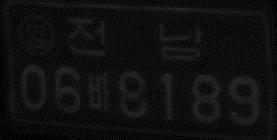0: (20, 63, 49, 112)
1: (153, 72, 184, 121)
6: (52, 65, 82, 116)
8: (117, 70, 149, 120), (191, 73, 222, 124)
9: (228, 75, 260, 126)
바: (86, 72, 111, 112)
영: (18, 14, 56, 56)
전남_D: (65, 15, 203, 61)
